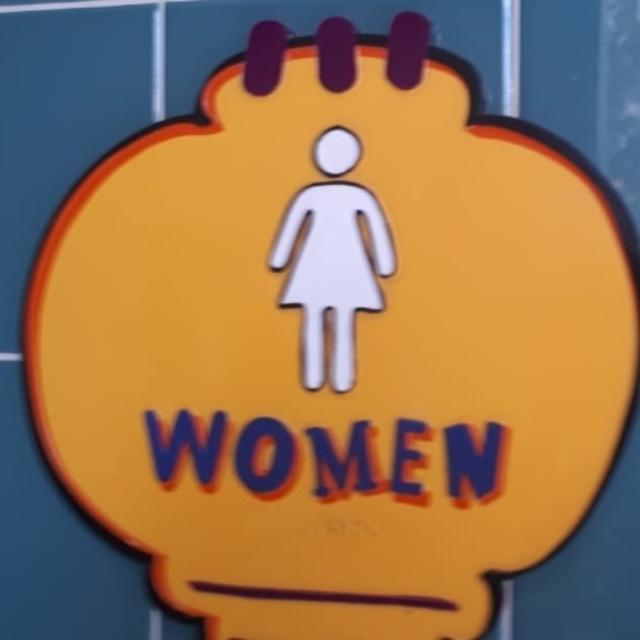wc nu: (24, 9, 638, 638)
